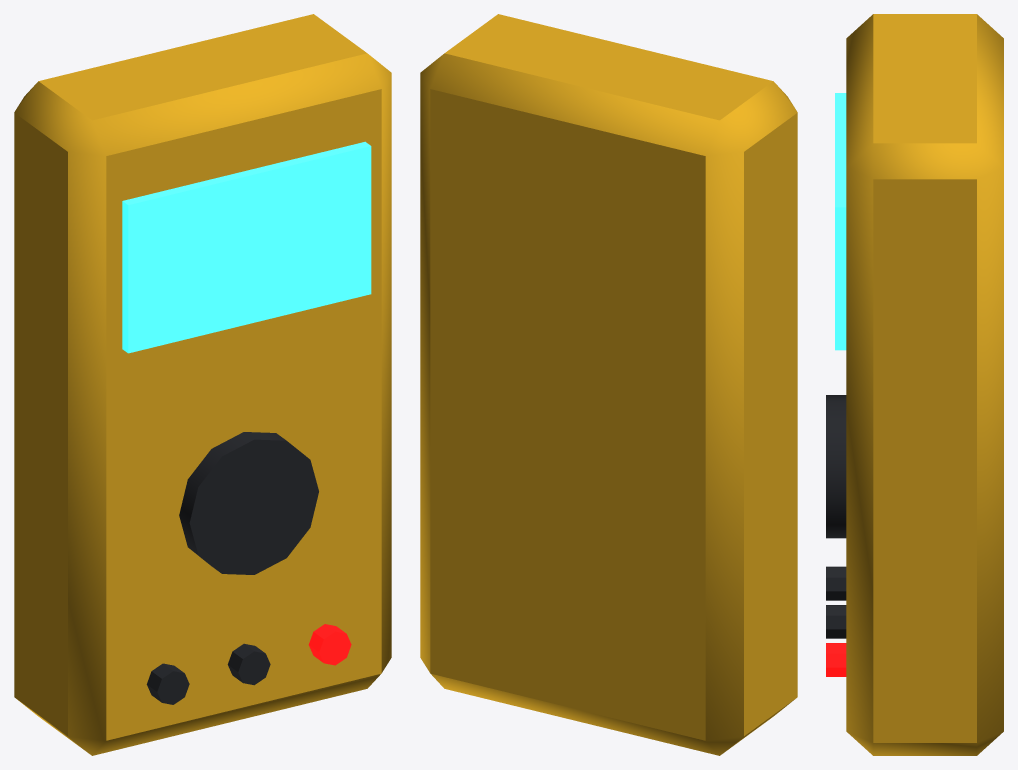
The model's file is SM_Multimetro.fbx.
3 renders of one model, left to right at view 1: azimuth 30°, elevation 25°; view 2: azimuth 150°, elevation 25°; view 3: azimuth 270°, elevation 25°, orthographic. The views are drawn at different scales.
Visible parts, largest first — view 1: SM_Multimetro; view 2: SM_Multimetro; view 3: SM_Multimetro.
Boxes of the visible parts, bbox=[...] form: SM_Multimetro: bbox=[14, 14, 391, 755]; SM_Multimetro: bbox=[420, 14, 797, 755]; SM_Multimetro: bbox=[826, 14, 1003, 755].
Bounding box in the file's own units: 0.08 × 0.15 × 0.0395.
